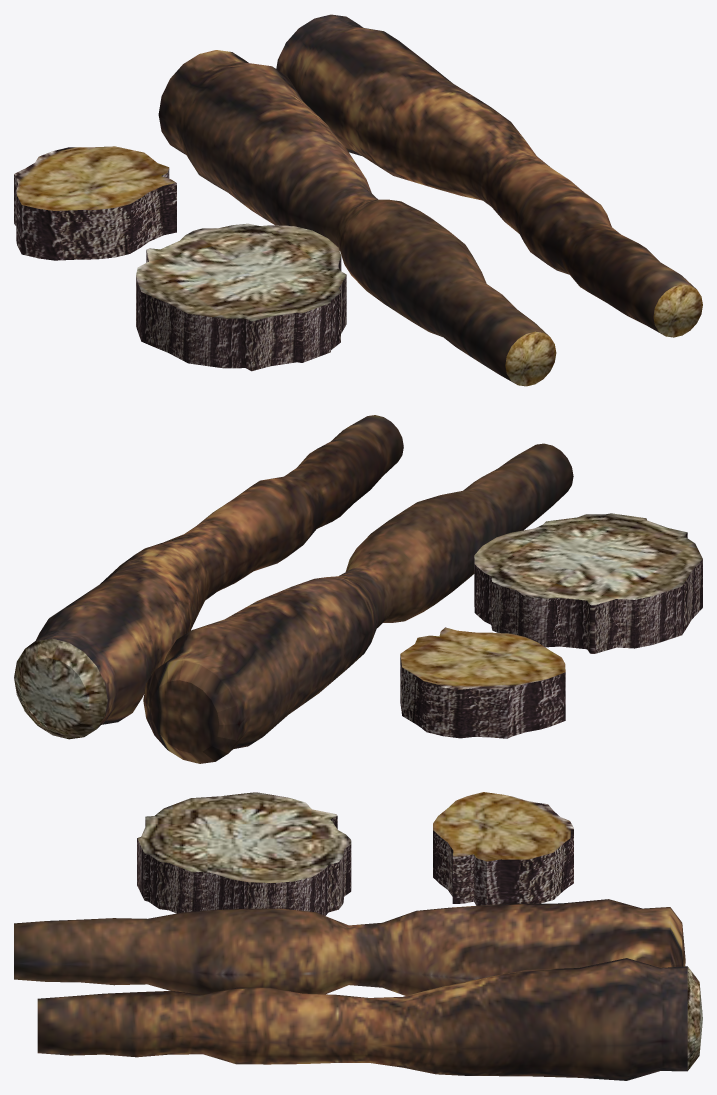
The model's file is chaihu.FBX.
The picture shows the model from 3 angles, top to bottom: view 1: azimuth 30°, elevation 25°; view 2: azimuth 150°, elevation 25°; view 3: azimuth 270°, elevation 25°; orthographic projection. The views are drawn at different scales.
Parts seen in each view (by area): view 1: Cylinder001, Cylinder002, Line002, Line001; view 2: Cylinder001, Cylinder002, Line002, Line001; view 3: Cylinder002, Cylinder001, Line002, Line001.
Part boxes in pixels (x1,y1,x2,y2): Cylinder001: (158, 50, 556, 386); Cylinder002: (276, 14, 702, 337); Line002: (136, 223, 346, 371); Line001: (14, 146, 176, 260); Cylinder001: (143, 443, 573, 763); Cylinder002: (14, 415, 403, 739); Line002: (474, 513, 702, 653); Line001: (400, 627, 565, 738); Cylinder002: (37, 958, 702, 1080); Cylinder001: (14, 899, 685, 995); Line002: (137, 792, 351, 915); Line001: (433, 792, 573, 905).
Bounding box in the file's own units: 481 × 115 × 634.
Materials: 2 (2 with a texture image).
